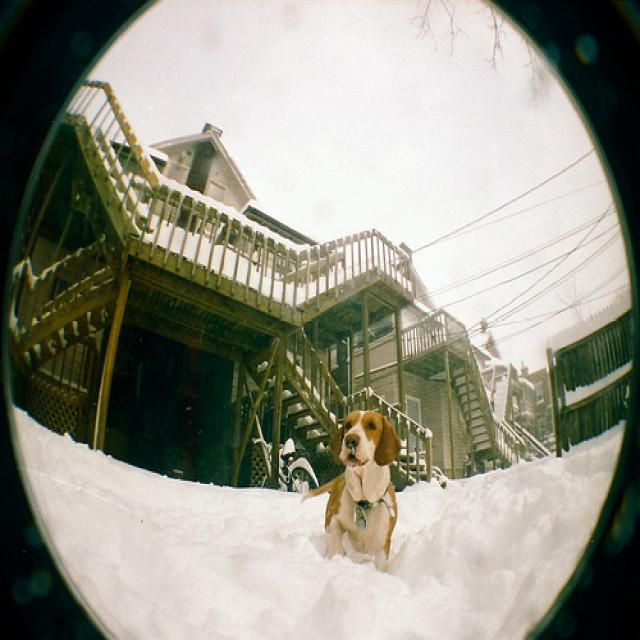dog-basset_hound: (294, 406, 403, 575)
